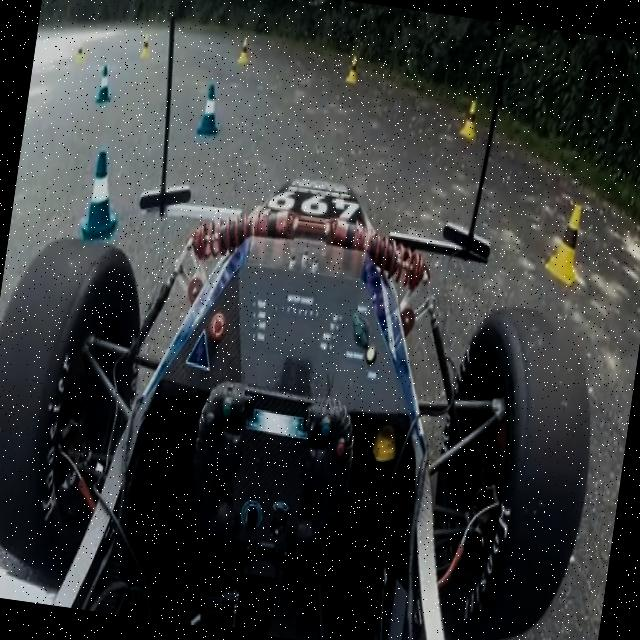blue_cone: (74, 144, 130, 245), (195, 77, 230, 142), (90, 60, 118, 110)
yellow_cone: (542, 193, 596, 291), (456, 92, 482, 148), (341, 49, 363, 91), (236, 34, 251, 68), (139, 32, 153, 62)
